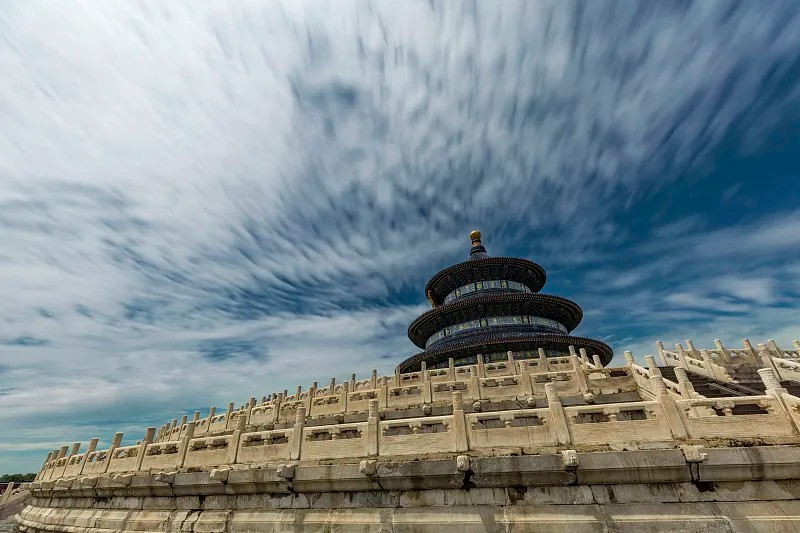Heaven: (394, 230, 614, 370)
